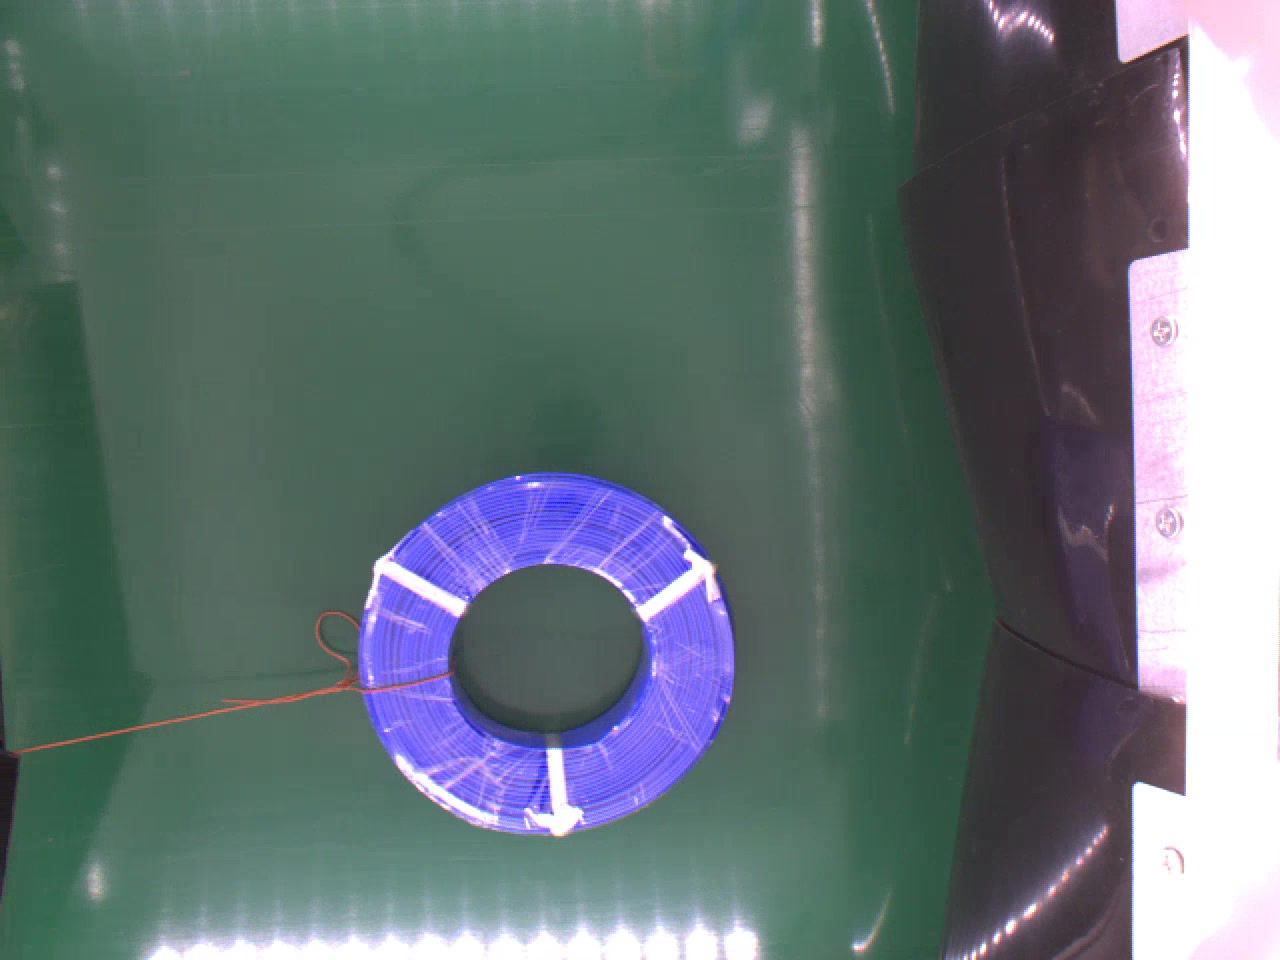blue: (346, 466, 739, 838)
